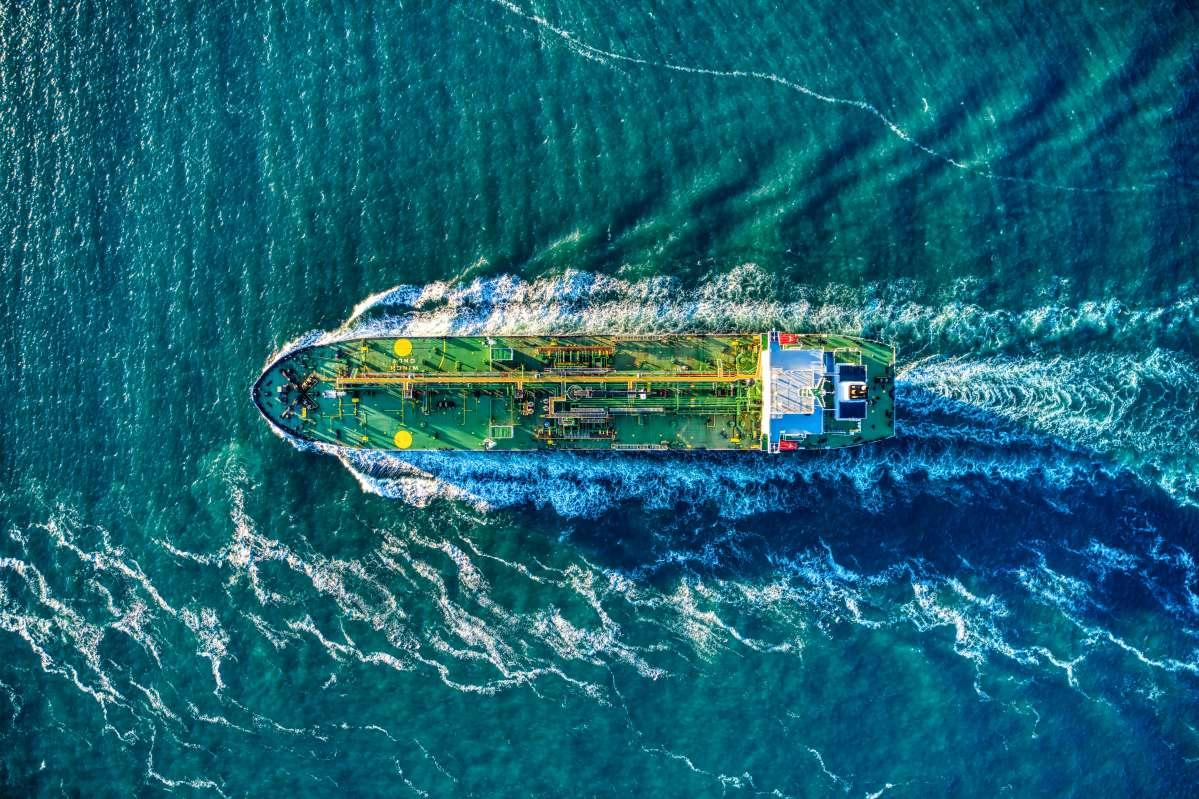Ship: (243, 309, 913, 463)
